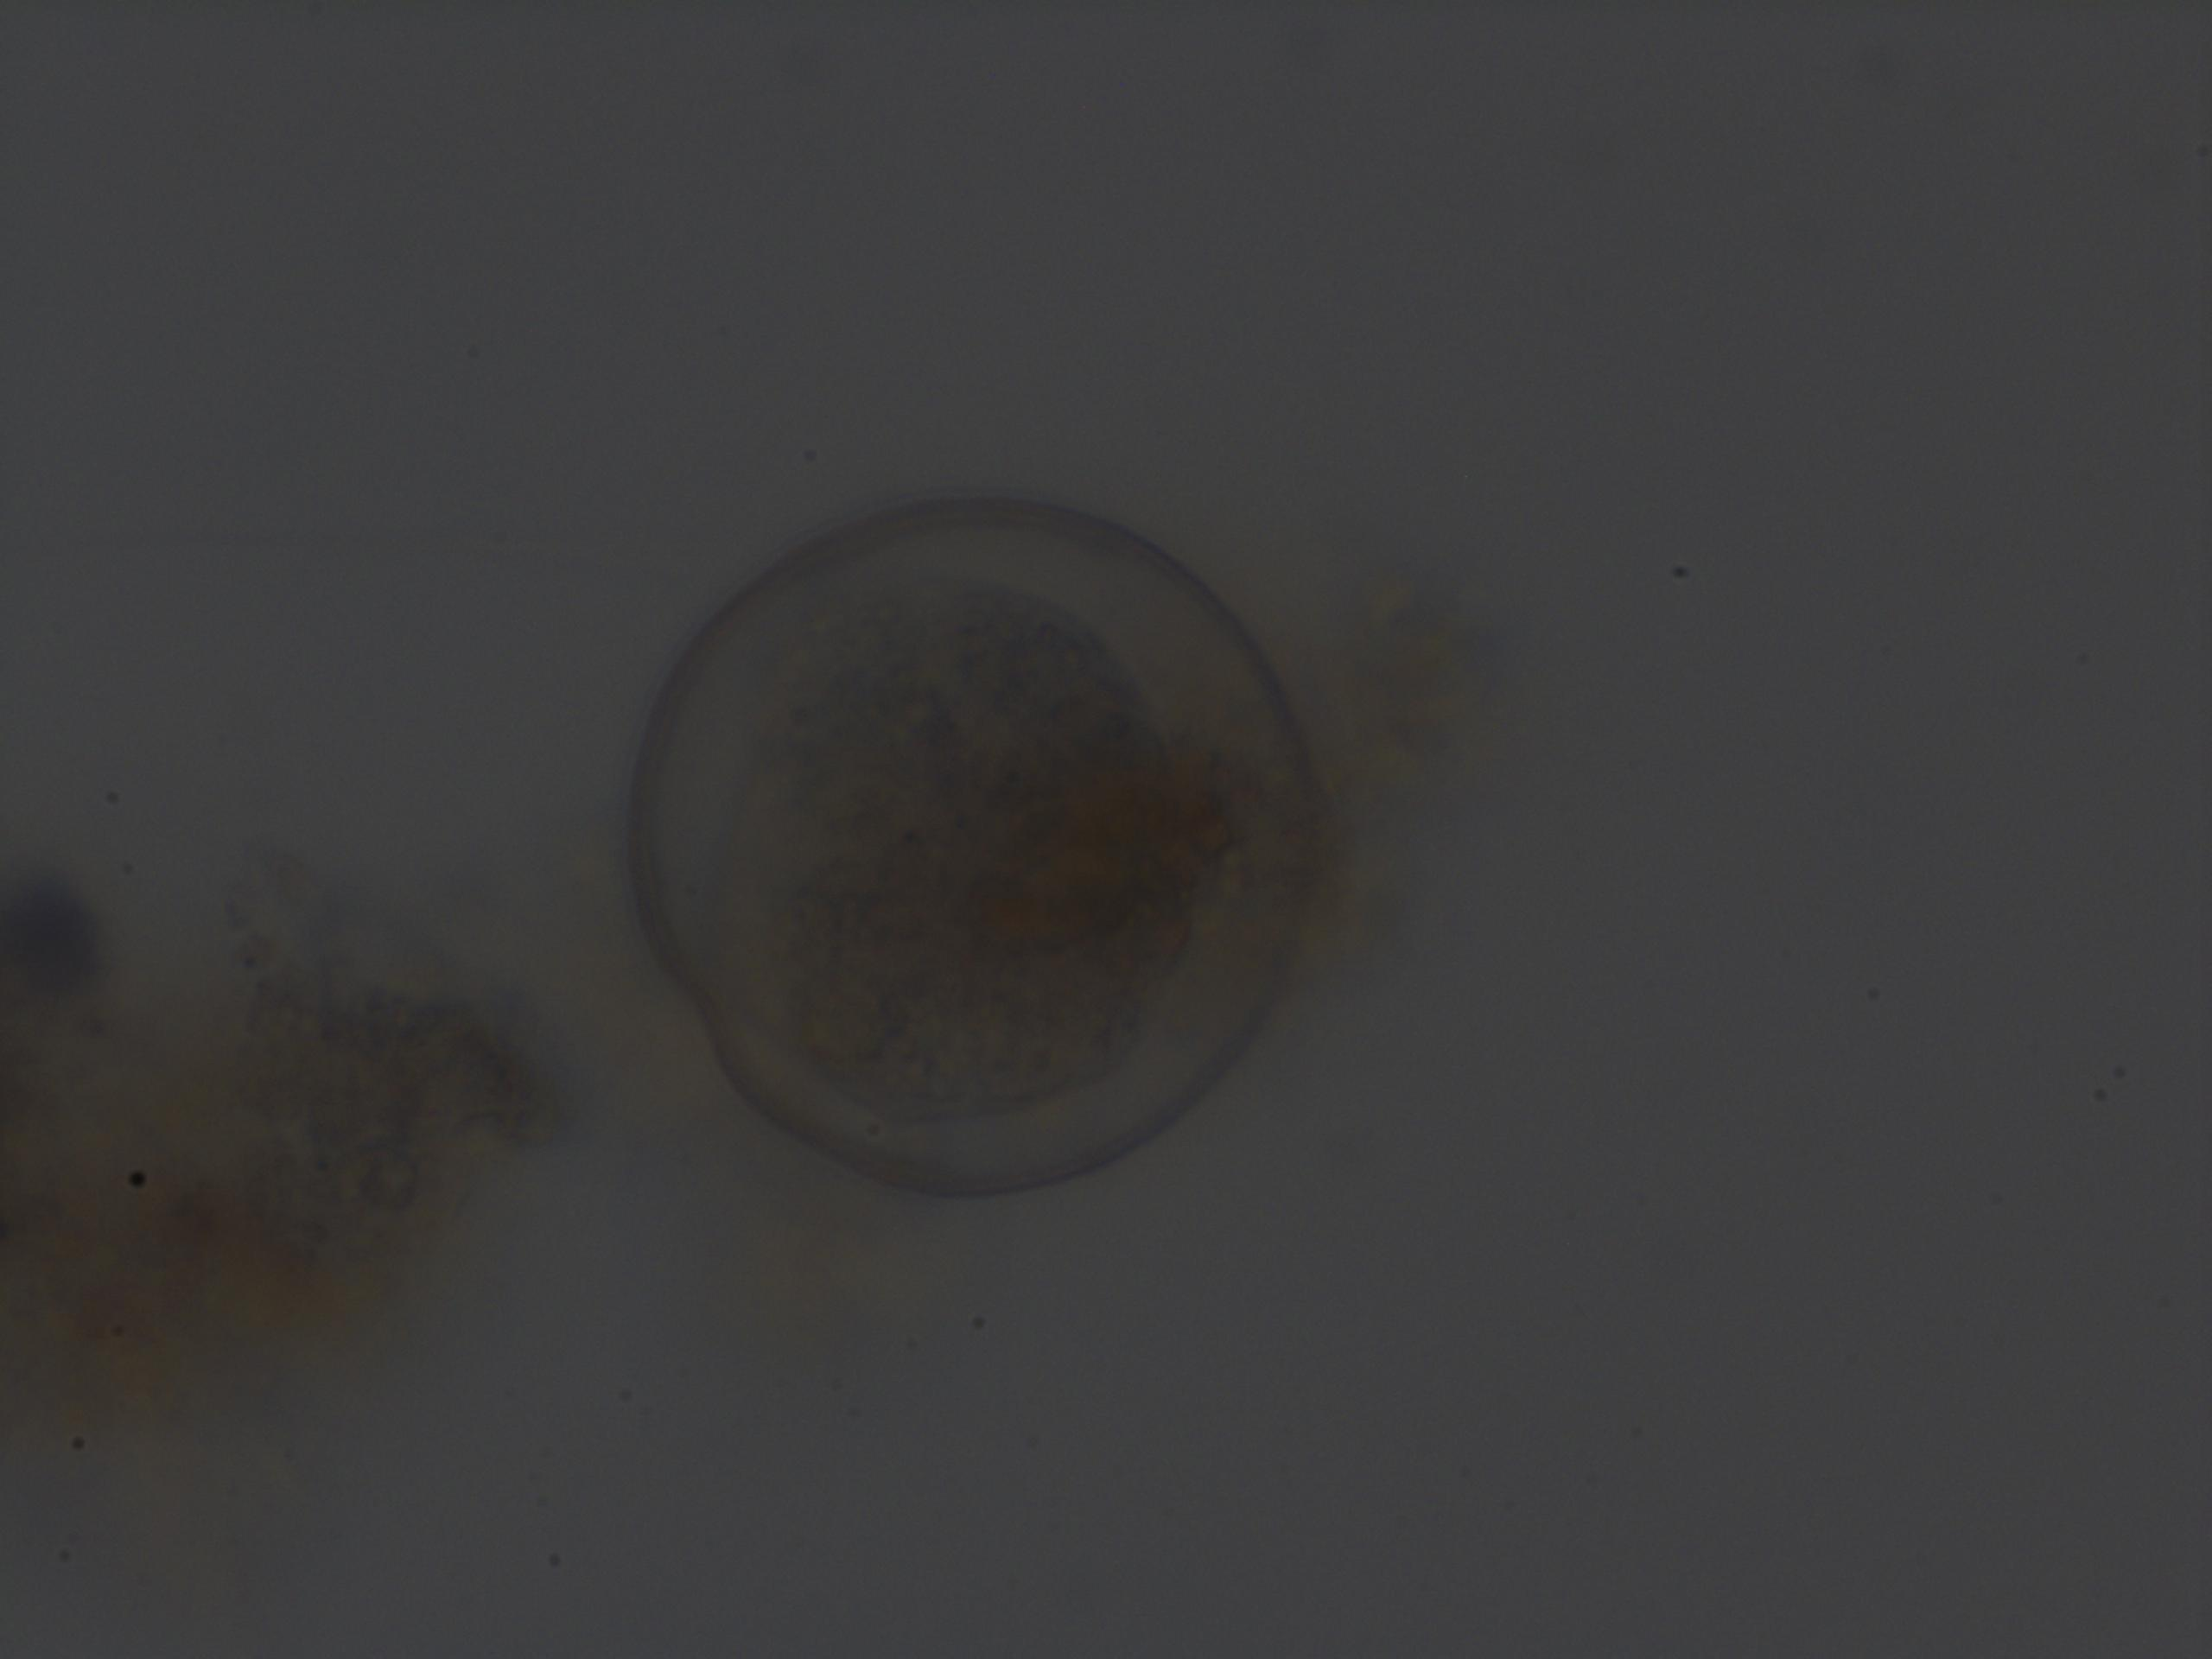protozoa: (608, 476, 1339, 1220)
